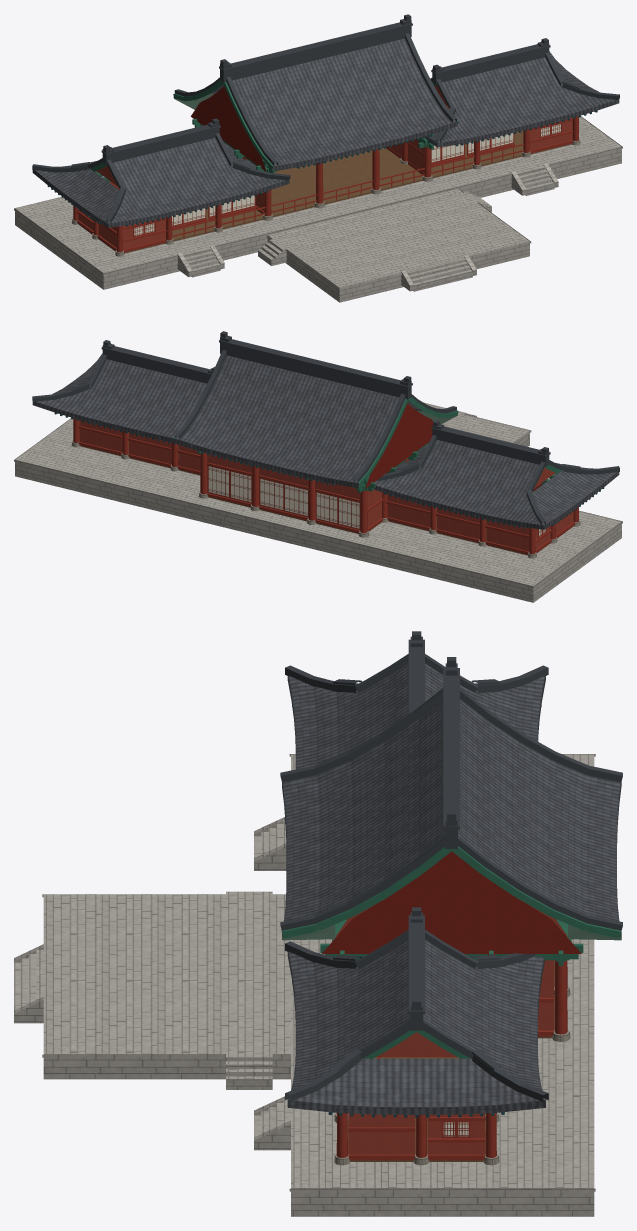
3 renders of one model, top to bottom at view 1: azimuth 30°, elevation 25°; view 2: azimuth 150°, elevation 25°; view 3: azimuth 270°, elevation 25°, orthographic. The views are drawn at different scales.
Visible parts, largest first — view 1: myeongnyundang; view 2: myeongnyundang; view 3: myeongnyundang.
Boxes of the visible parts, x1,y1,x2,y2 form: myeongnyundang: (14,14,622,302); myeongnyundang: (14,331,622,602); myeongnyundang: (14,631,622,1216).
Bounding box in the file's own units: 44.22 × 12.53 × 26.17.
14 materials, 11 textured.
